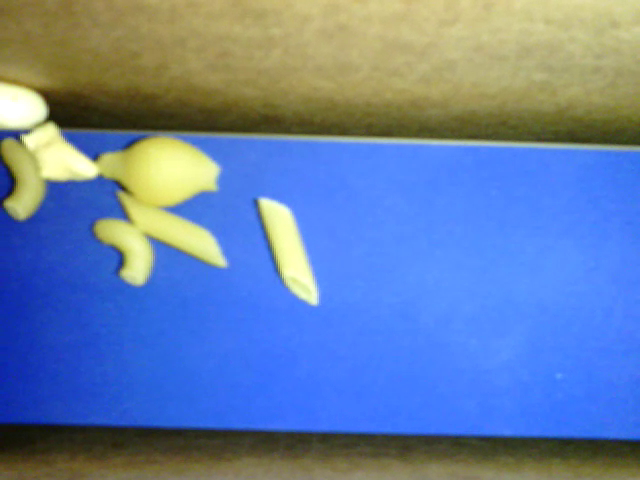elbow: (93, 217, 154, 287), (1, 136, 46, 221)
penne: (116, 192, 227, 269), (256, 195, 319, 306)
shell: (94, 134, 222, 207)
